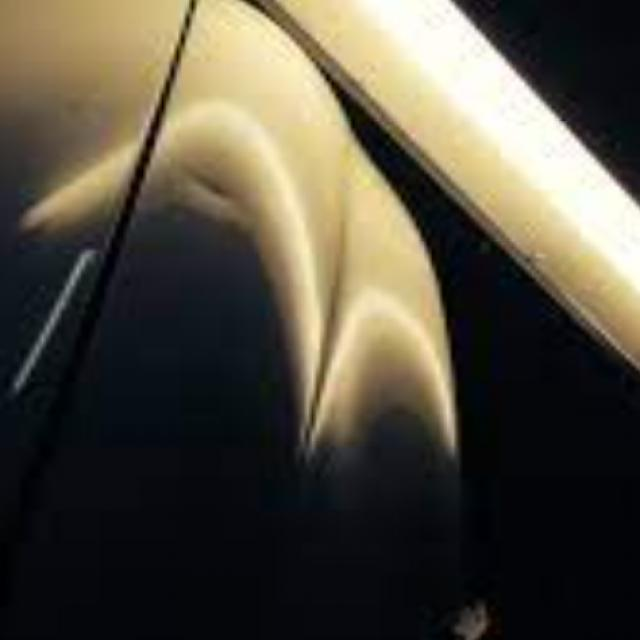dents: (144, 150, 316, 246)
